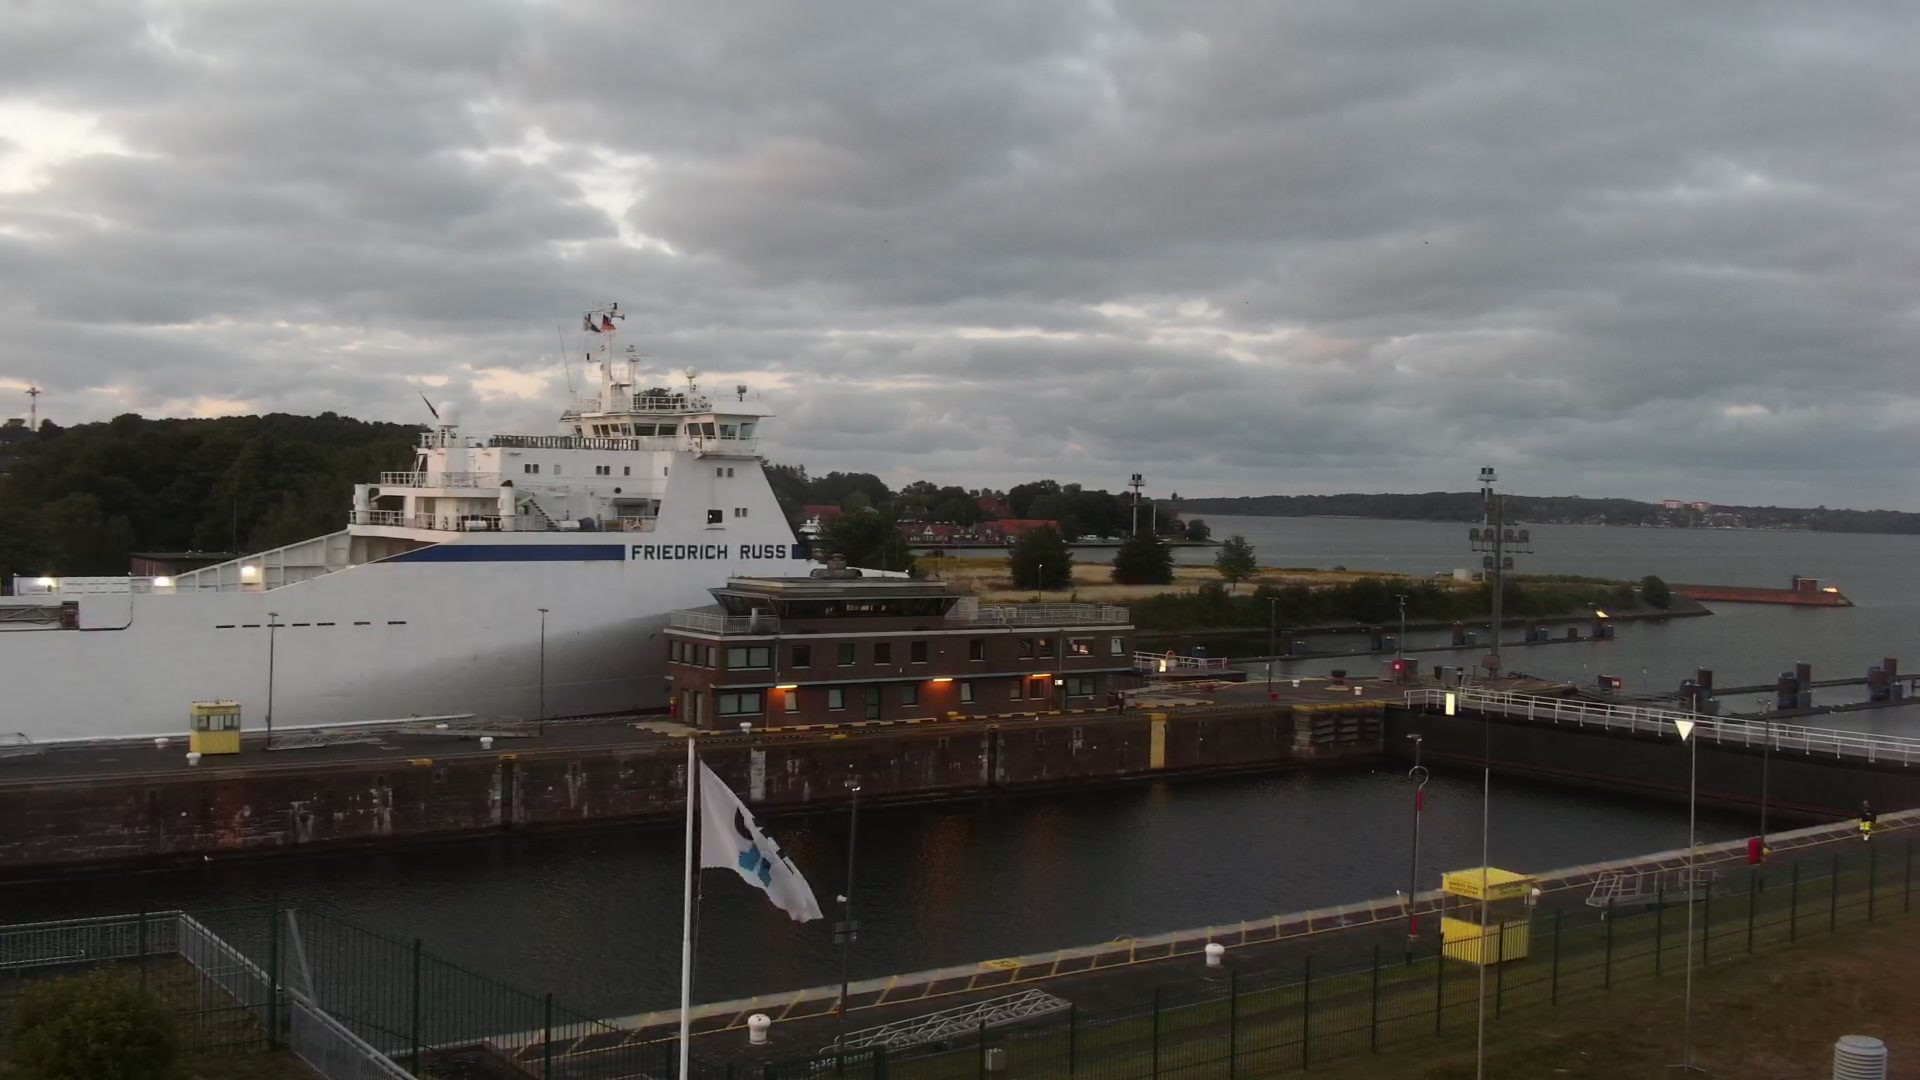human: (1857, 798, 1875, 844), (1116, 689, 1125, 715)
sea: (1, 297, 911, 747)
